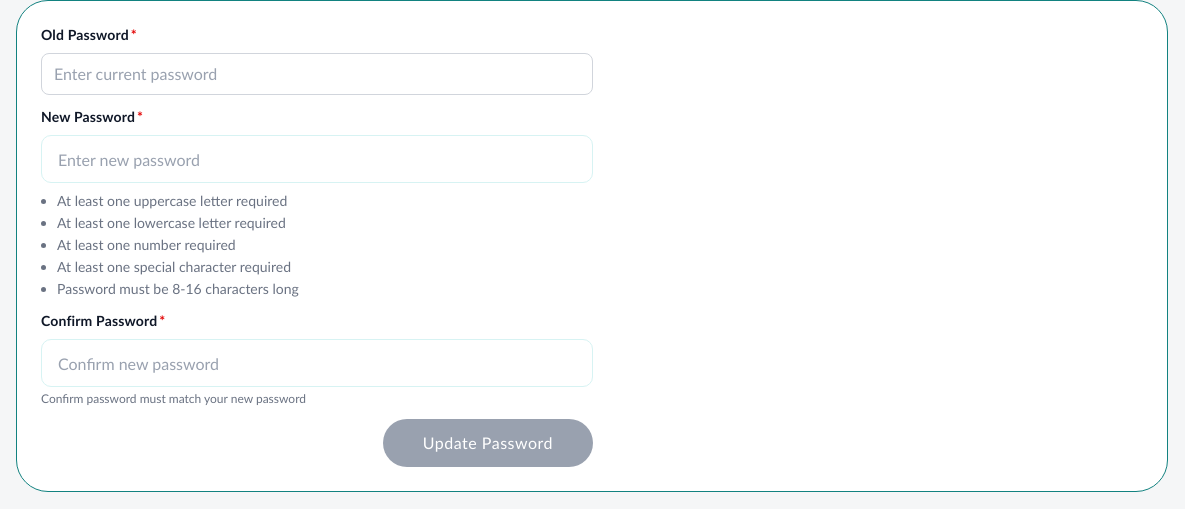
ChangePasswordSection › toggles old password visibility
Note: Type something to reveal toggle button
Step 1. Type "Test" into the password field with placeholder "Enter current password" → [317, 74], box 41,53 -> 593,95
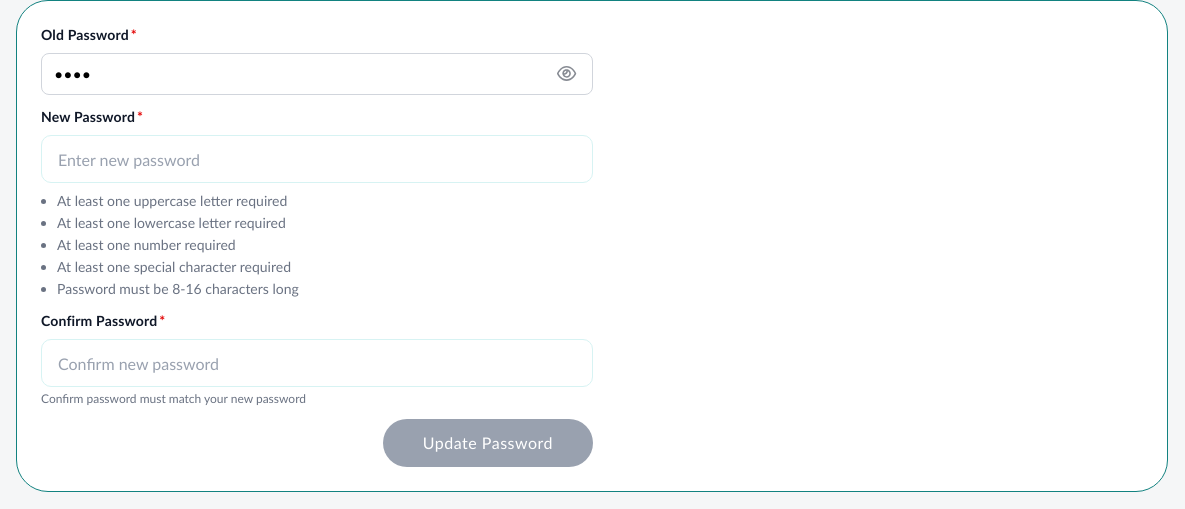
Expected: the 1st button is shown
Step 2. Click the 1st button → [567, 74], box 557,64 -> 577,84
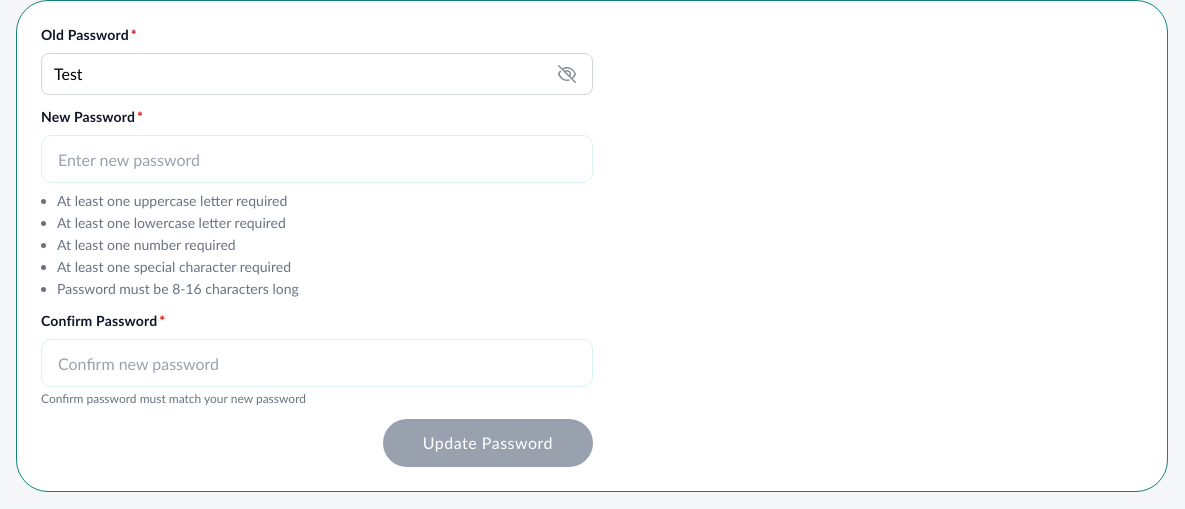
Expected: the field with placeholder "Enter current password" shows its text, 41,53 -> 593,95
